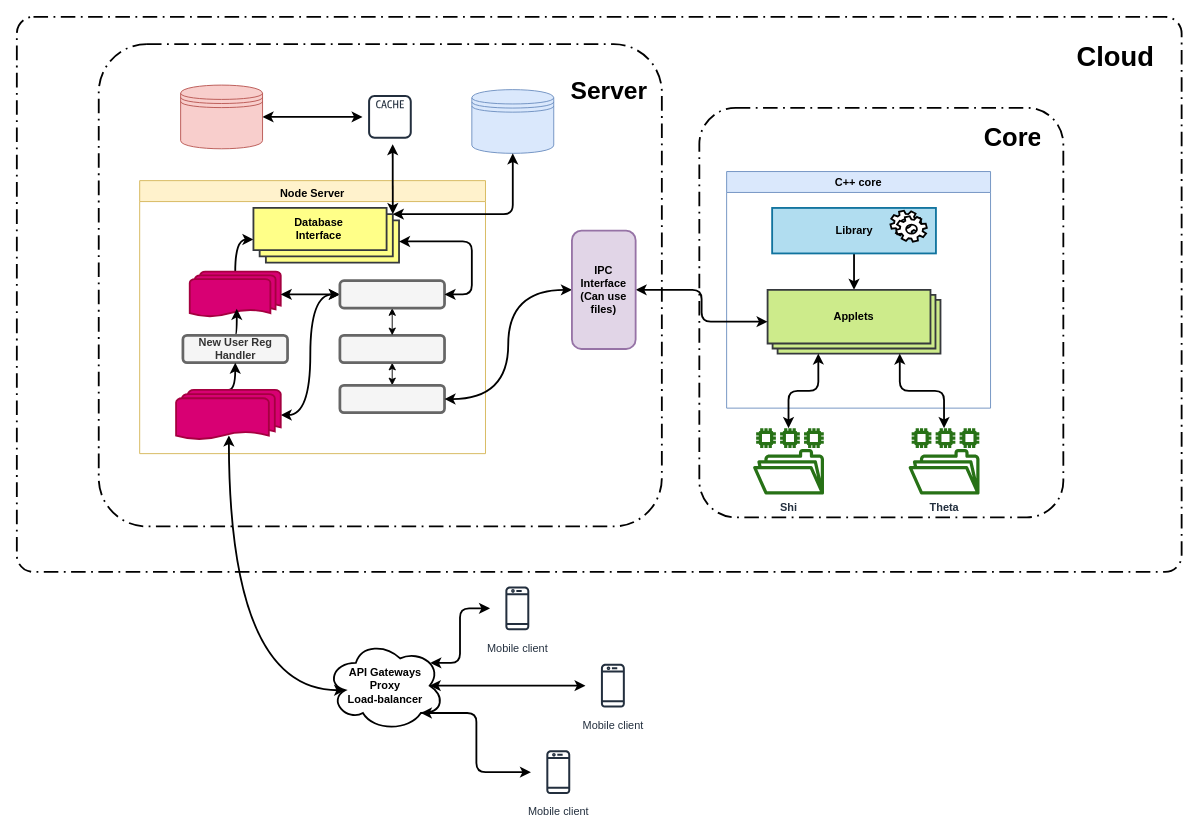
The diagram is 1198 pixels wide and 834 high, and some of its shapes have lost their labels. Here are the shapes that lost their labels. From the top down, the centre of each, then its label:
the point at 221,116: In mem DB
the point at 512,121: SQL Database
the point at 234,294: JSON parser
the point at 391,294: Routine Data
the point at 391,349: Watch Window
the point at 228,414: Request Parser
the point at 391,399: Set Like Data Structure
